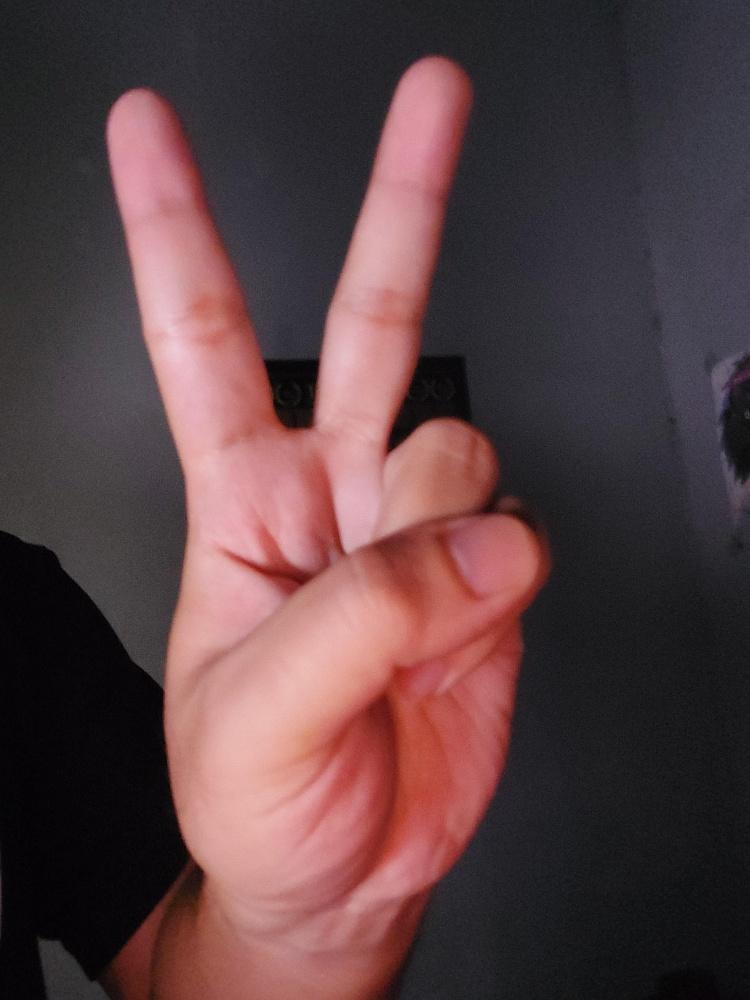v: (105, 51, 549, 918)
